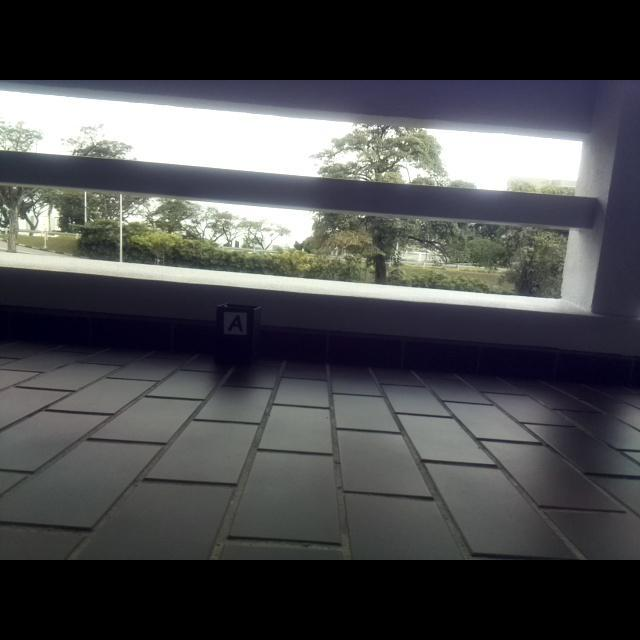A: (226, 315, 243, 332)
